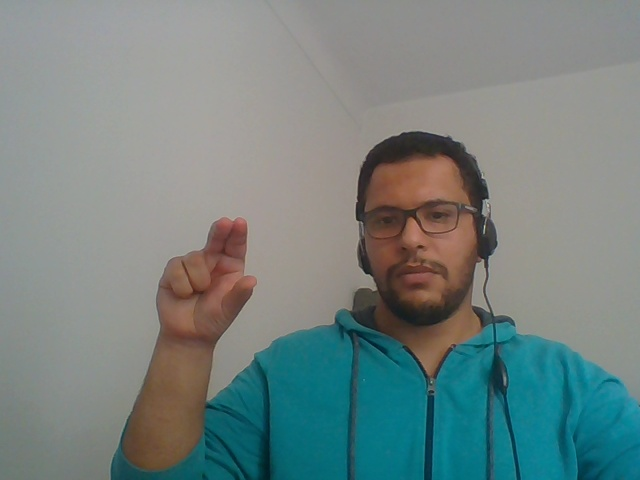no: (132, 185, 284, 354)
